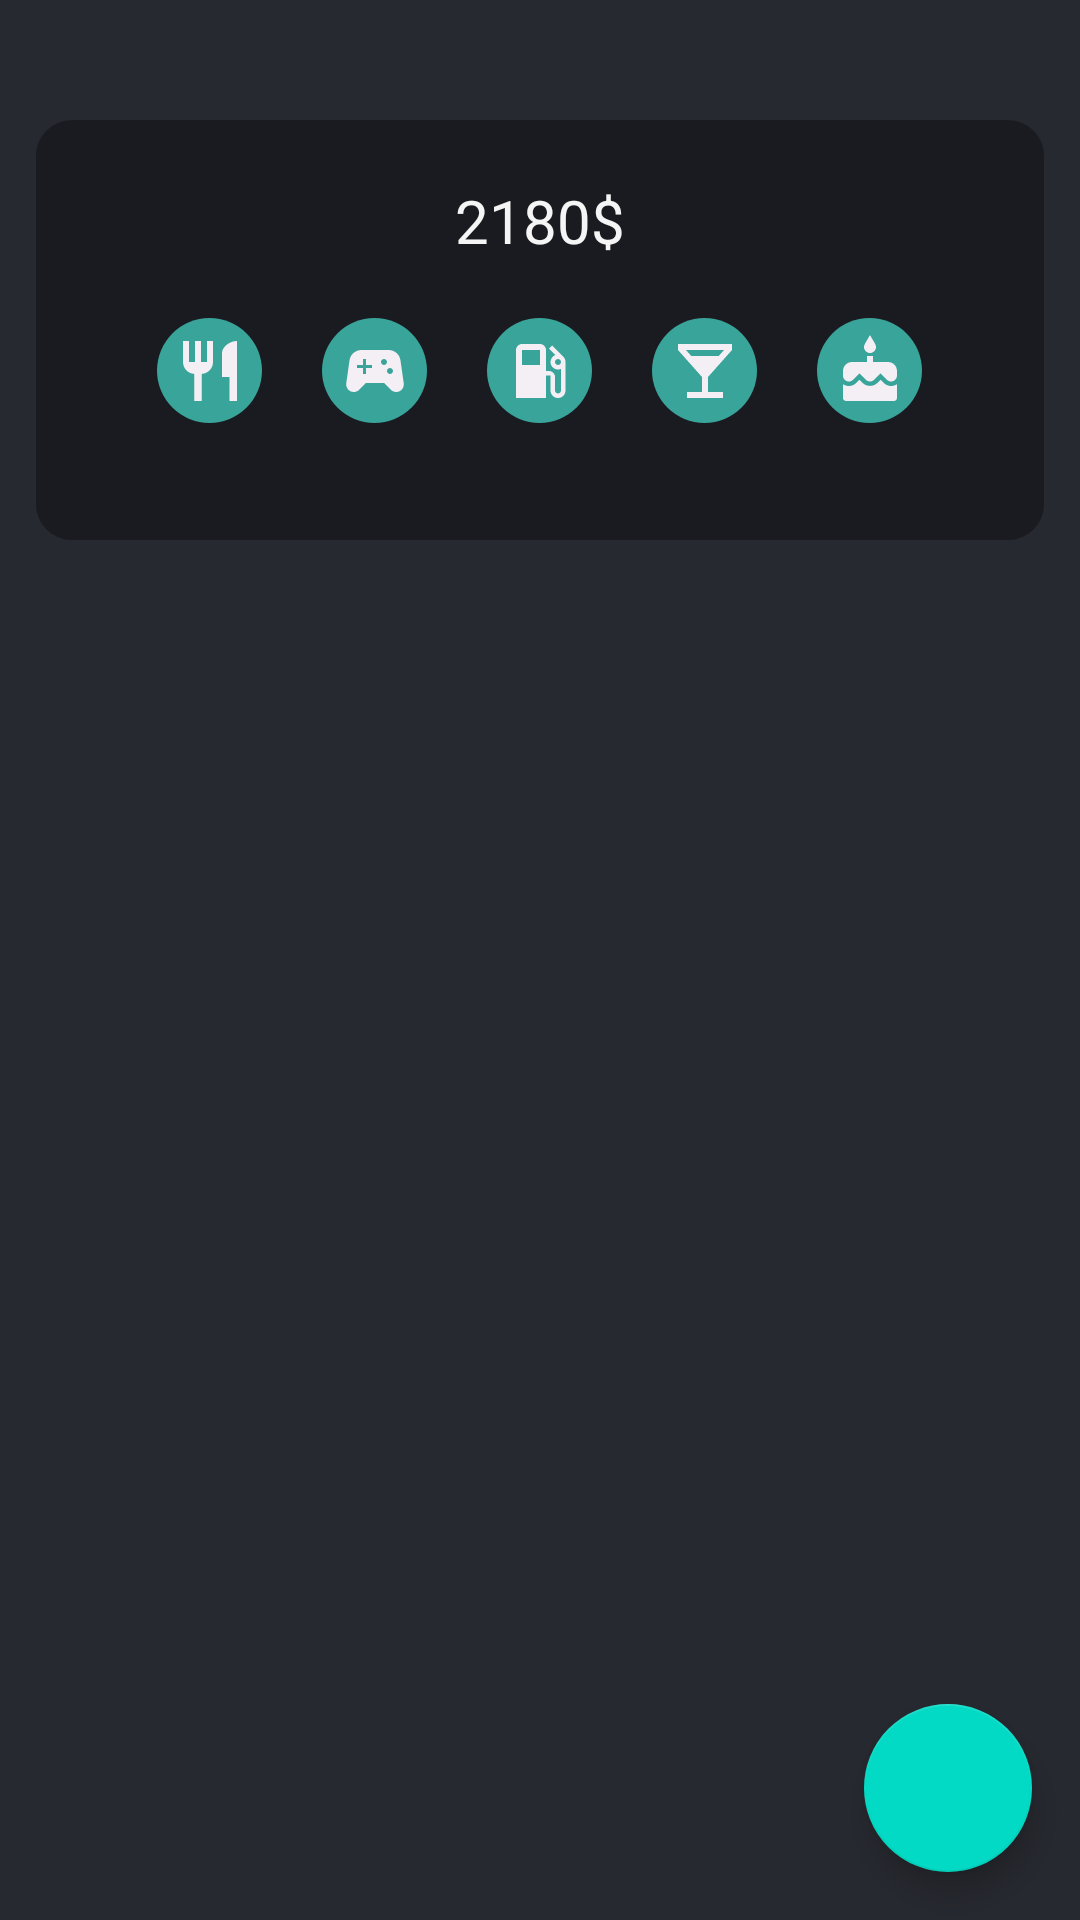

Screen size 1080×1920. Icon name, then its center in pixels as (x=x, y=y):
home cake: (x=869, y=370)
home games: (x=374, y=370)
home local gas station: (x=539, y=370)
home party: (x=704, y=370)
home restaurant: (x=209, y=370)
